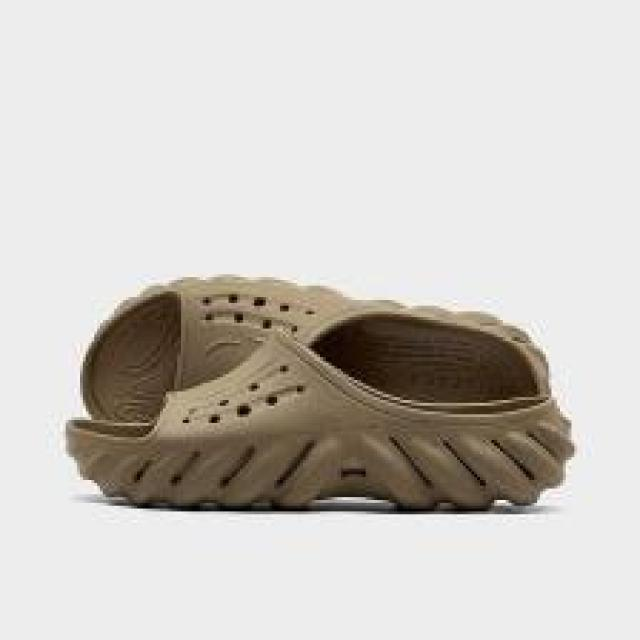shoe: (66, 328, 576, 511), (82, 276, 551, 424)
